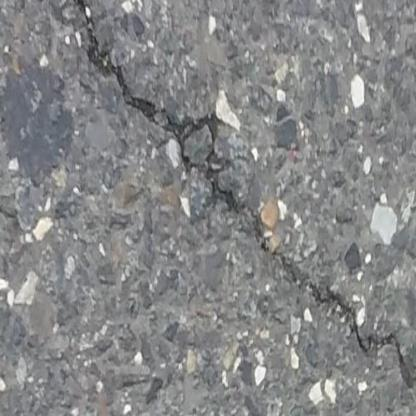Cracks: (40, 0, 416, 398)
